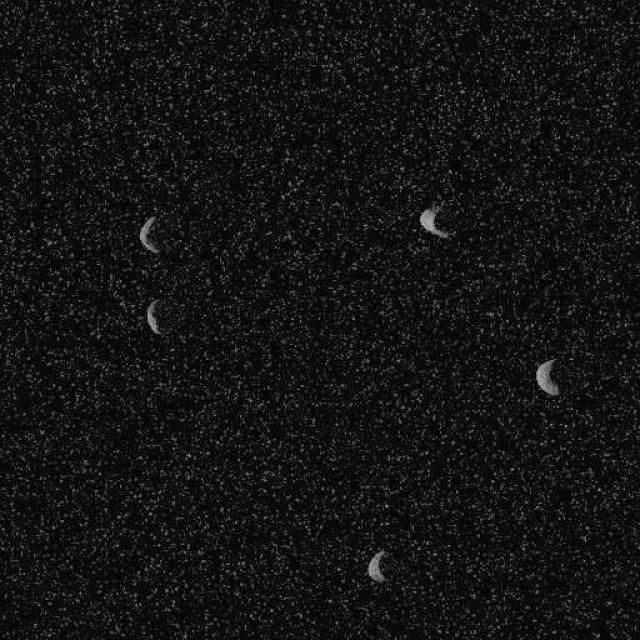D2: (418, 202, 452, 240), (534, 358, 560, 397), (138, 215, 160, 254), (366, 548, 389, 582), (145, 297, 163, 335)
